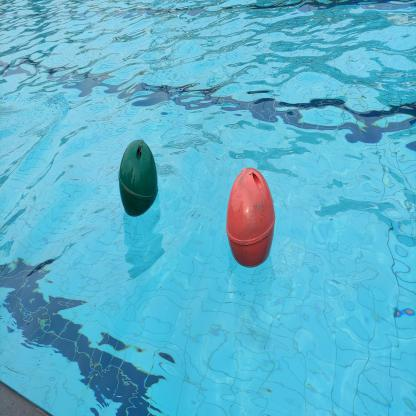green_buoy: (116, 134, 160, 222)
red_buoy: (224, 162, 277, 270)
